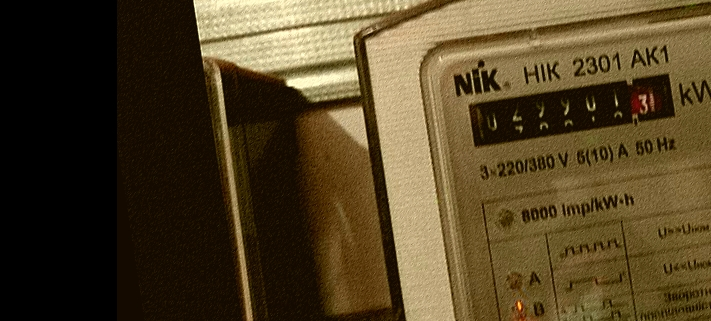0: (581, 87, 600, 114), (482, 109, 500, 133)
1: (608, 84, 623, 109)
2: (507, 100, 525, 124)
3: (634, 91, 653, 116)
9: (558, 94, 573, 118), (533, 96, 548, 119)
screen: (459, 64, 687, 159)
